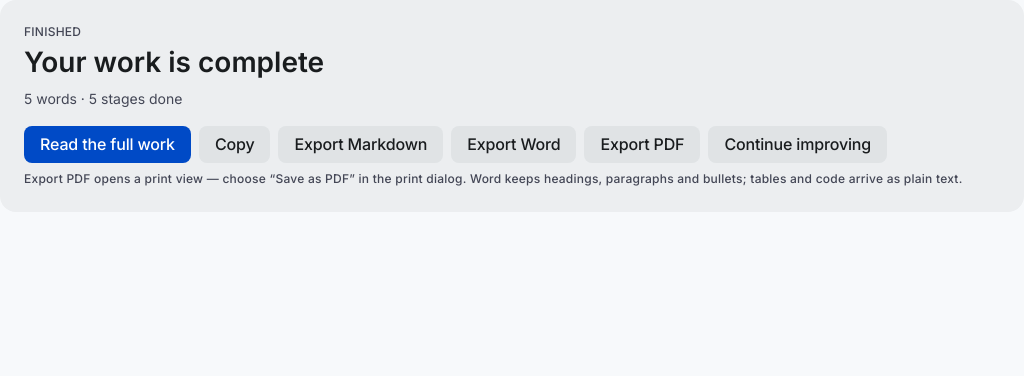
Test case: the finished screen puts the work at the centre (C4, Sean 28 Sep item 15) › says it is complete, counts the words, and reads the work on request
Check: the heading "Your work is complete" is shown, box [24,45,324,79]
Check: the text "5 words · 5 stages done" is shown, box [24,90,182,107]
Click the button "Read the full work" at (107, 145), box [24,126,191,163]
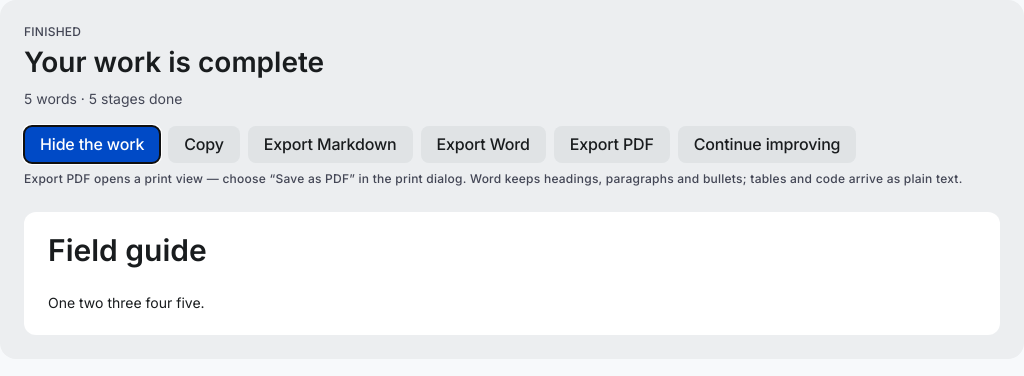
Check: the text "One two three four five." is shown, box [48,294,205,311]
